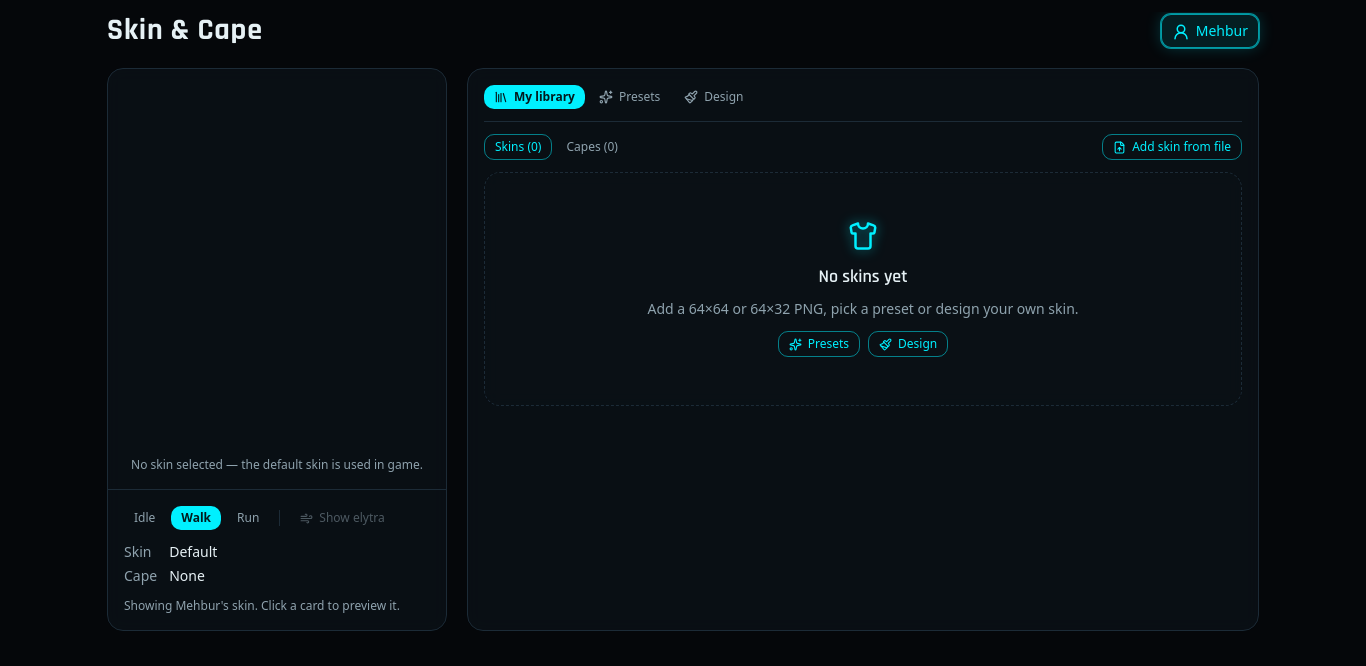
Test case: SkinMC gallery › explains a failure and retries
Step 1. Click the tab "Presets" → (630, 97), box 589,85 -> 670,109
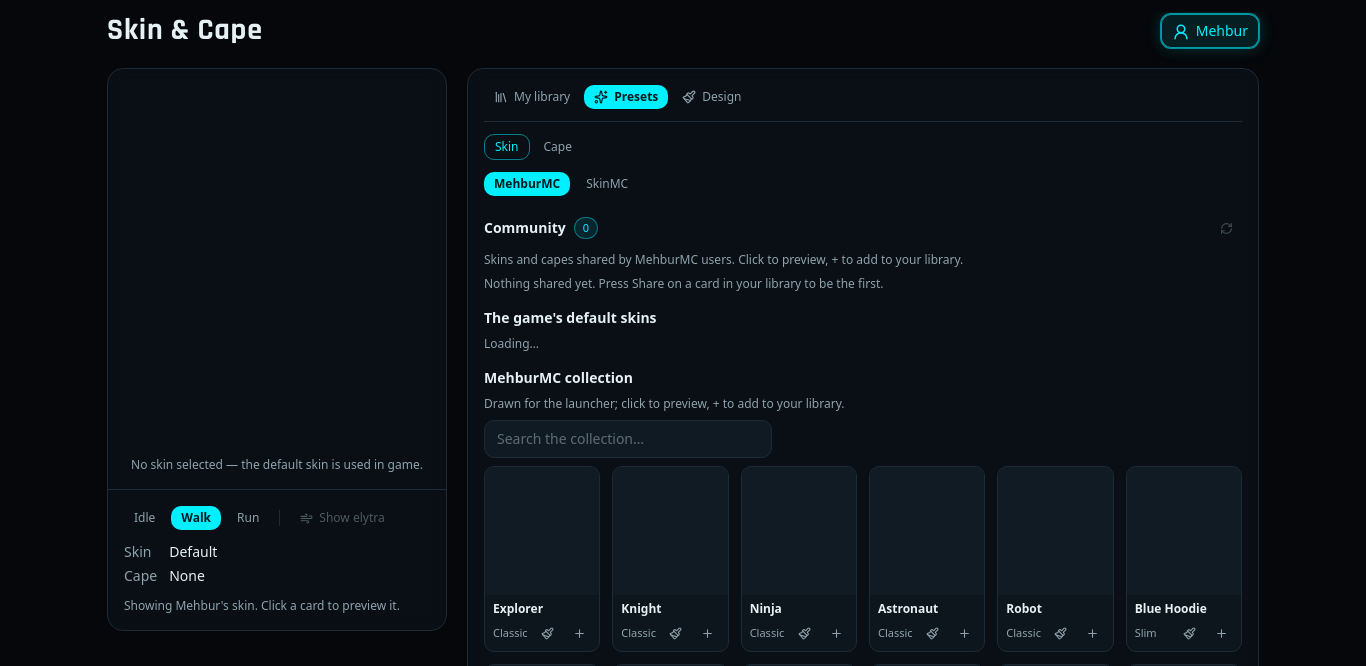
Step 2. Click the button "SkinMC" → (607, 184), box 576,172 -> 638,196
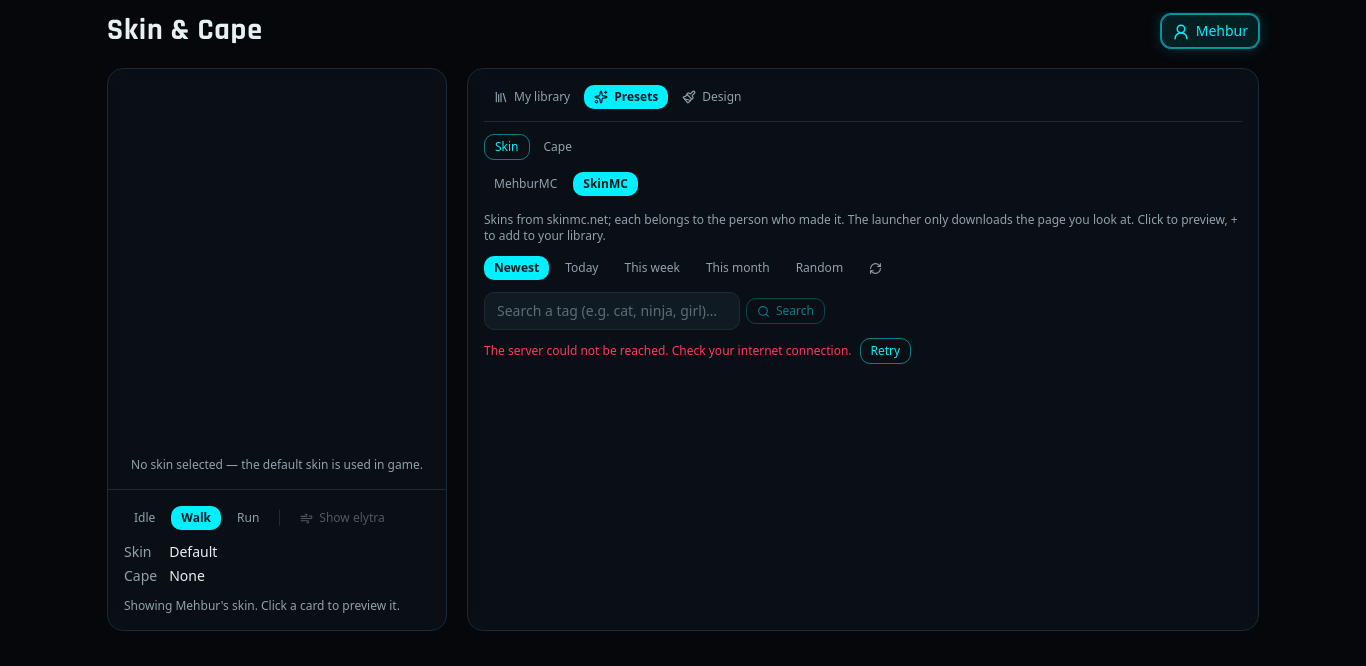
Expected: the message "The server could not be reached. Check your internet connection. Retry" is shown, 484,338 -> 911,364
Step 3. Click the button "Retry" → (885, 351), box 860,338 -> 911,364
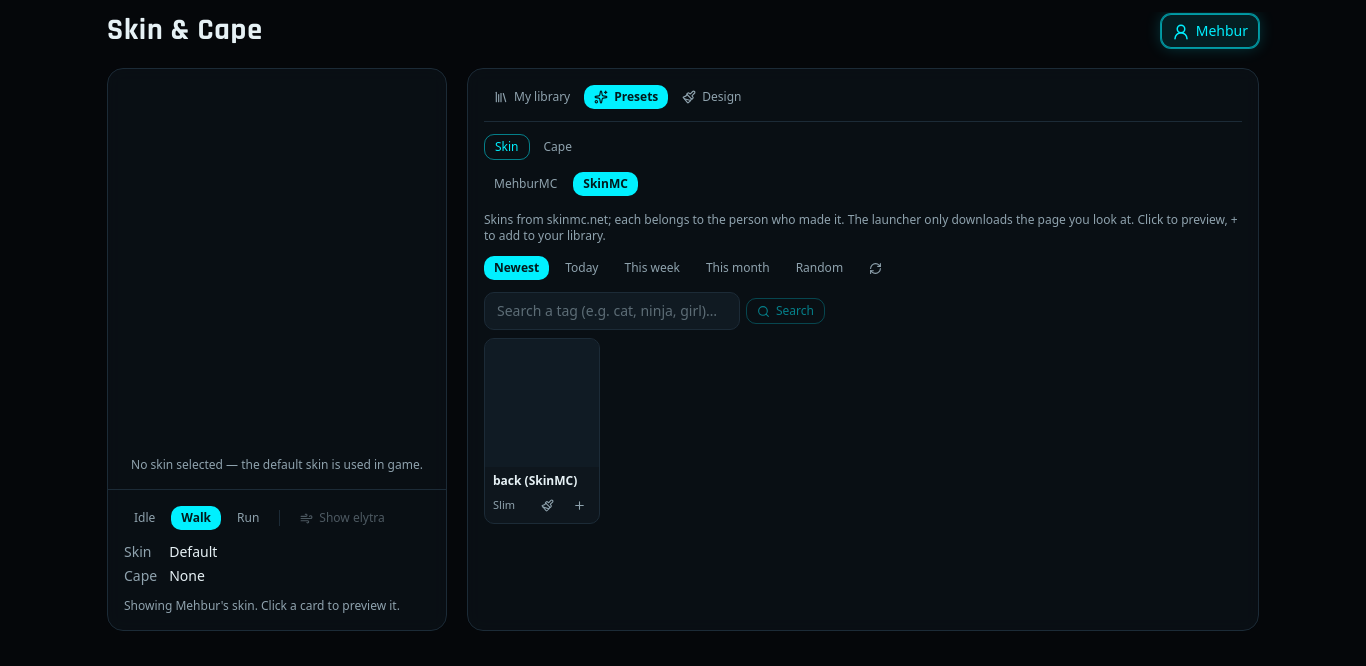
Expected: the text "back (SkinMC)" is shown, 493,473 -> 591,489
